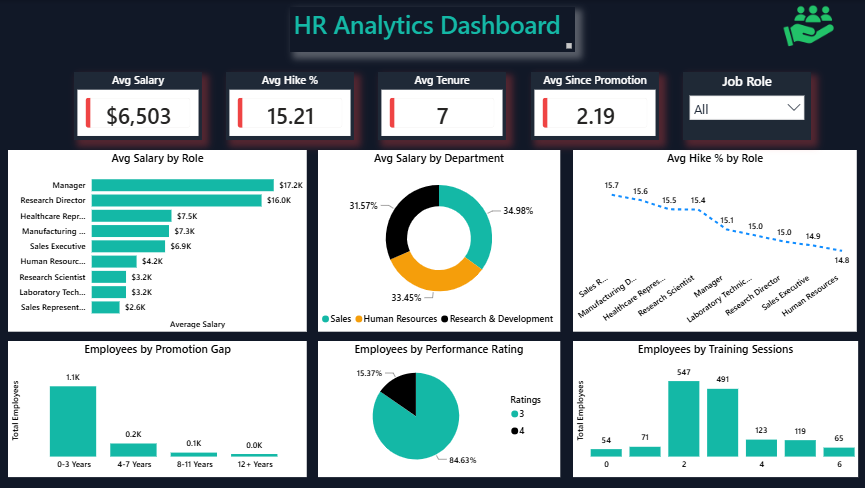

The page's visual inventory and layout, read from the dashboard file:
{"tool":"powerbi","page":{"name":"Compensation & Career Growth","canvas":[1280,720],"ordinal":2},"visuals":[{"type":"cardVisual","title":"Avg Salary","fields":{"Data":["Employees.Average Salary"]},"box":[111.7,105.8,188.1,99.9],"z":0},{"type":"cardVisual","title":"Avg Hike %","fields":{"Data":["Employees.Avg Hike %"]},"box":[335.4,105.8,188.1,99.9],"z":1000},{"type":"cardVisual","title":"Avg Tenure","fields":{"Data":["Employees.Avg Tenure"]},"box":[559.1,105.8,188.1,99.9],"z":2000},{"type":"cardVisual","title":"Avg Since Promotion","fields":{"Data":["Employees.Avg Years Since Promotion"]},"box":[782.8,105.8,188.1,99.9],"z":3000},{"type":"clusteredBarChart","title":"Avg Salary by Role","fields":{"Category":["Employees.JobRole"],"Y":["Employees.Average Salary"]},"box":[14.7,220.4,439.3,267.4],"z":4000},{"type":"donutChart","title":"Avg Salary by Department","fields":{"Category":["Employees.Department"],"Y":["Employees.Average Salary"]},"box":[470.2,220.4,355.6,267.4],"z":5000},{"type":"lineChart","title":"Avg Hike % by Role","fields":{"Category":["Employees.JobRole"],"Y":["Employees.Avg Hike %"]},"box":[844.9,220.4,417.3,267.4],"z":6000},{"type":"columnChart","title":"Employees by Promotion Gap","fields":{"Category":["Employees.Promotion Group"],"Y":["Employees.Total Employees"]},"box":[14.7,501.1,439.3,199.8],"z":7000},{"type":"columnChart","title":"Employees by Training Sessions","fields":{"Y":["Employees.Total Employees"],"Category":["Employees.TrainingTimesLastYear"]},"box":[844.9,501.1,418.8,199.8],"z":8000},{"type":"pieChart","title":"Employees by Performance Rating","fields":{"Category":["Employees.PerformanceRating"],"Y":["Employees.Total Employees"]},"box":[470.2,501.1,355.6,199.8],"z":9000},{"type":"slicer","title":"Job Role","fields":{"Values":["Employees.JobRole"]},"box":[1006.5,105.8,188.1,99.9],"z":11000},{"type":"textbox","title":"HR Analytics Dashboard","box":[429.1,10.3,418.8,66.1],"z":11001},{"type":"image","box":[1124.1,0,133.7,76.4],"z":11002}]}

Visuals, with their boxes in screenshot pixels (x1, y1, x2, y2), scaled from the page's 1280x720 canvas onto the 865x488 screenshot:
"Avg Salary" cardVisual: bbox(75, 72, 203, 139)
"Avg Hike %" cardVisual: bbox(227, 72, 354, 139)
"Avg Tenure" cardVisual: bbox(378, 72, 505, 139)
"Avg Since Promotion" cardVisual: bbox(529, 72, 656, 139)
"Avg Salary by Role" clusteredBarChart: bbox(10, 149, 307, 331)
"Avg Salary by Department" donutChart: bbox(318, 149, 558, 331)
"Avg Hike % by Role" lineChart: bbox(571, 149, 853, 331)
"Employees by Promotion Gap" columnChart: bbox(10, 340, 307, 475)
"Employees by Training Sessions" columnChart: bbox(571, 340, 854, 475)
"Employees by Performance Rating" pieChart: bbox(318, 340, 558, 475)
"Job Role" slicer: bbox(680, 72, 807, 139)
"HR Analytics Dashboard" textbox: bbox(290, 7, 573, 52)
image: bbox(760, 0, 850, 52)
